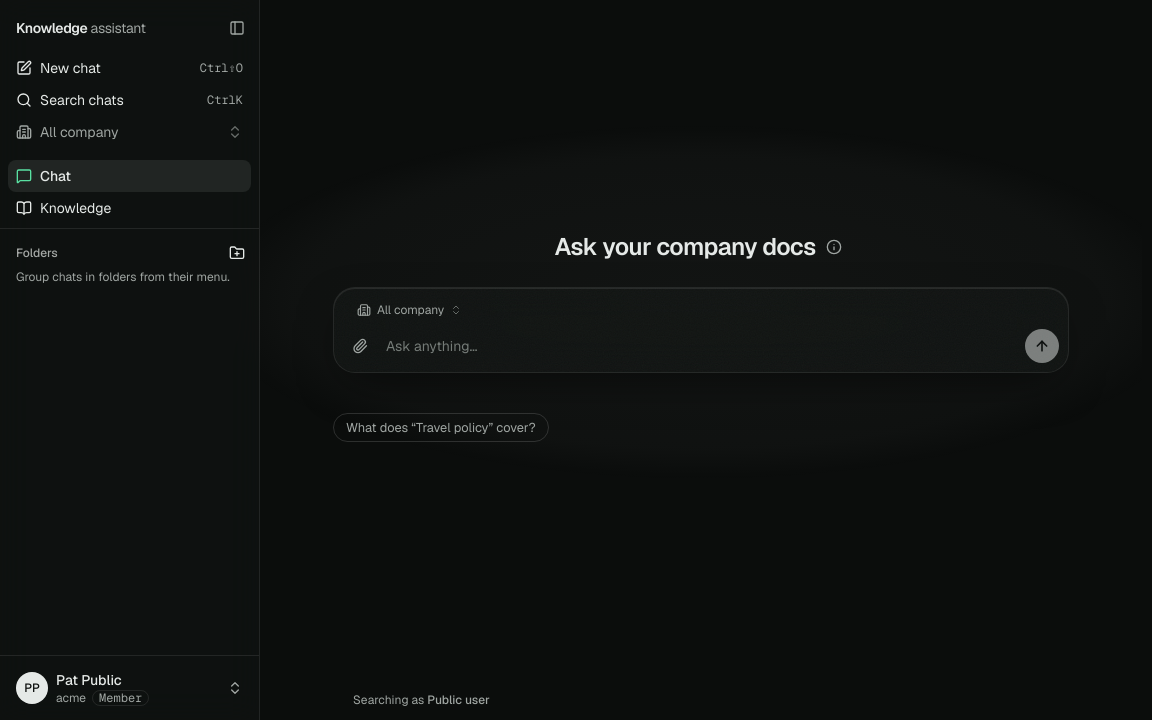
the chat › starts empty with the workspace's own starters and no Outline promise
The image size is (1152, 720).
Expected: the button "What does “Travel policy” cover?" is shown, [333,413,549,442]
Expected: the heading "Ask your company docs" is shown, [554,231,816,263]
Click the button named "How answers work" at (834, 247), box [820,233,848,261]
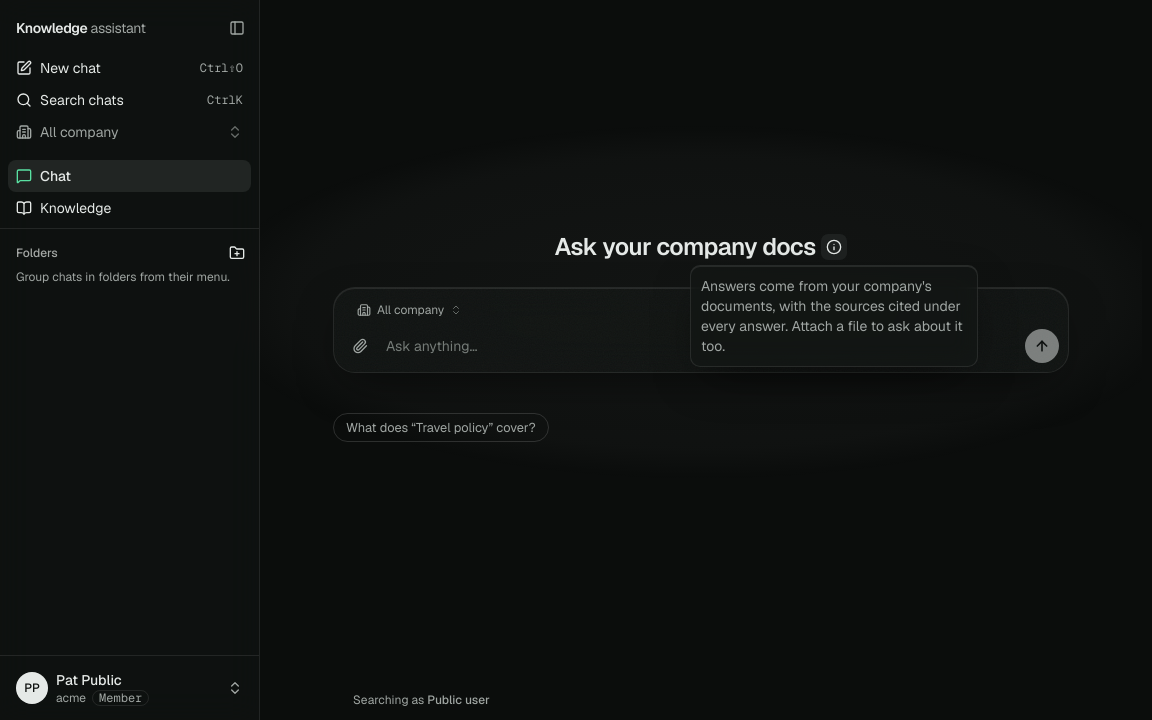
Expected: the text "Answers come from your company's documents, with" is shown, [690,265,978,367]
